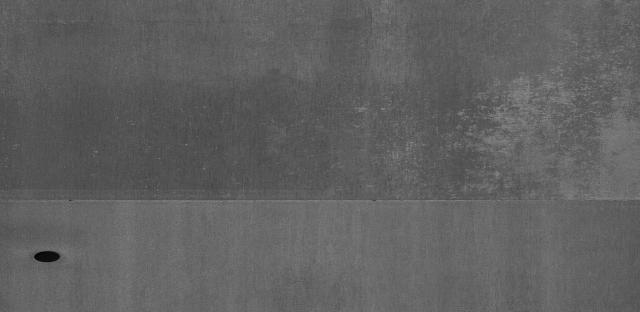punching_hole: (29, 248, 66, 266)
welding_line: (1, 190, 639, 212)
